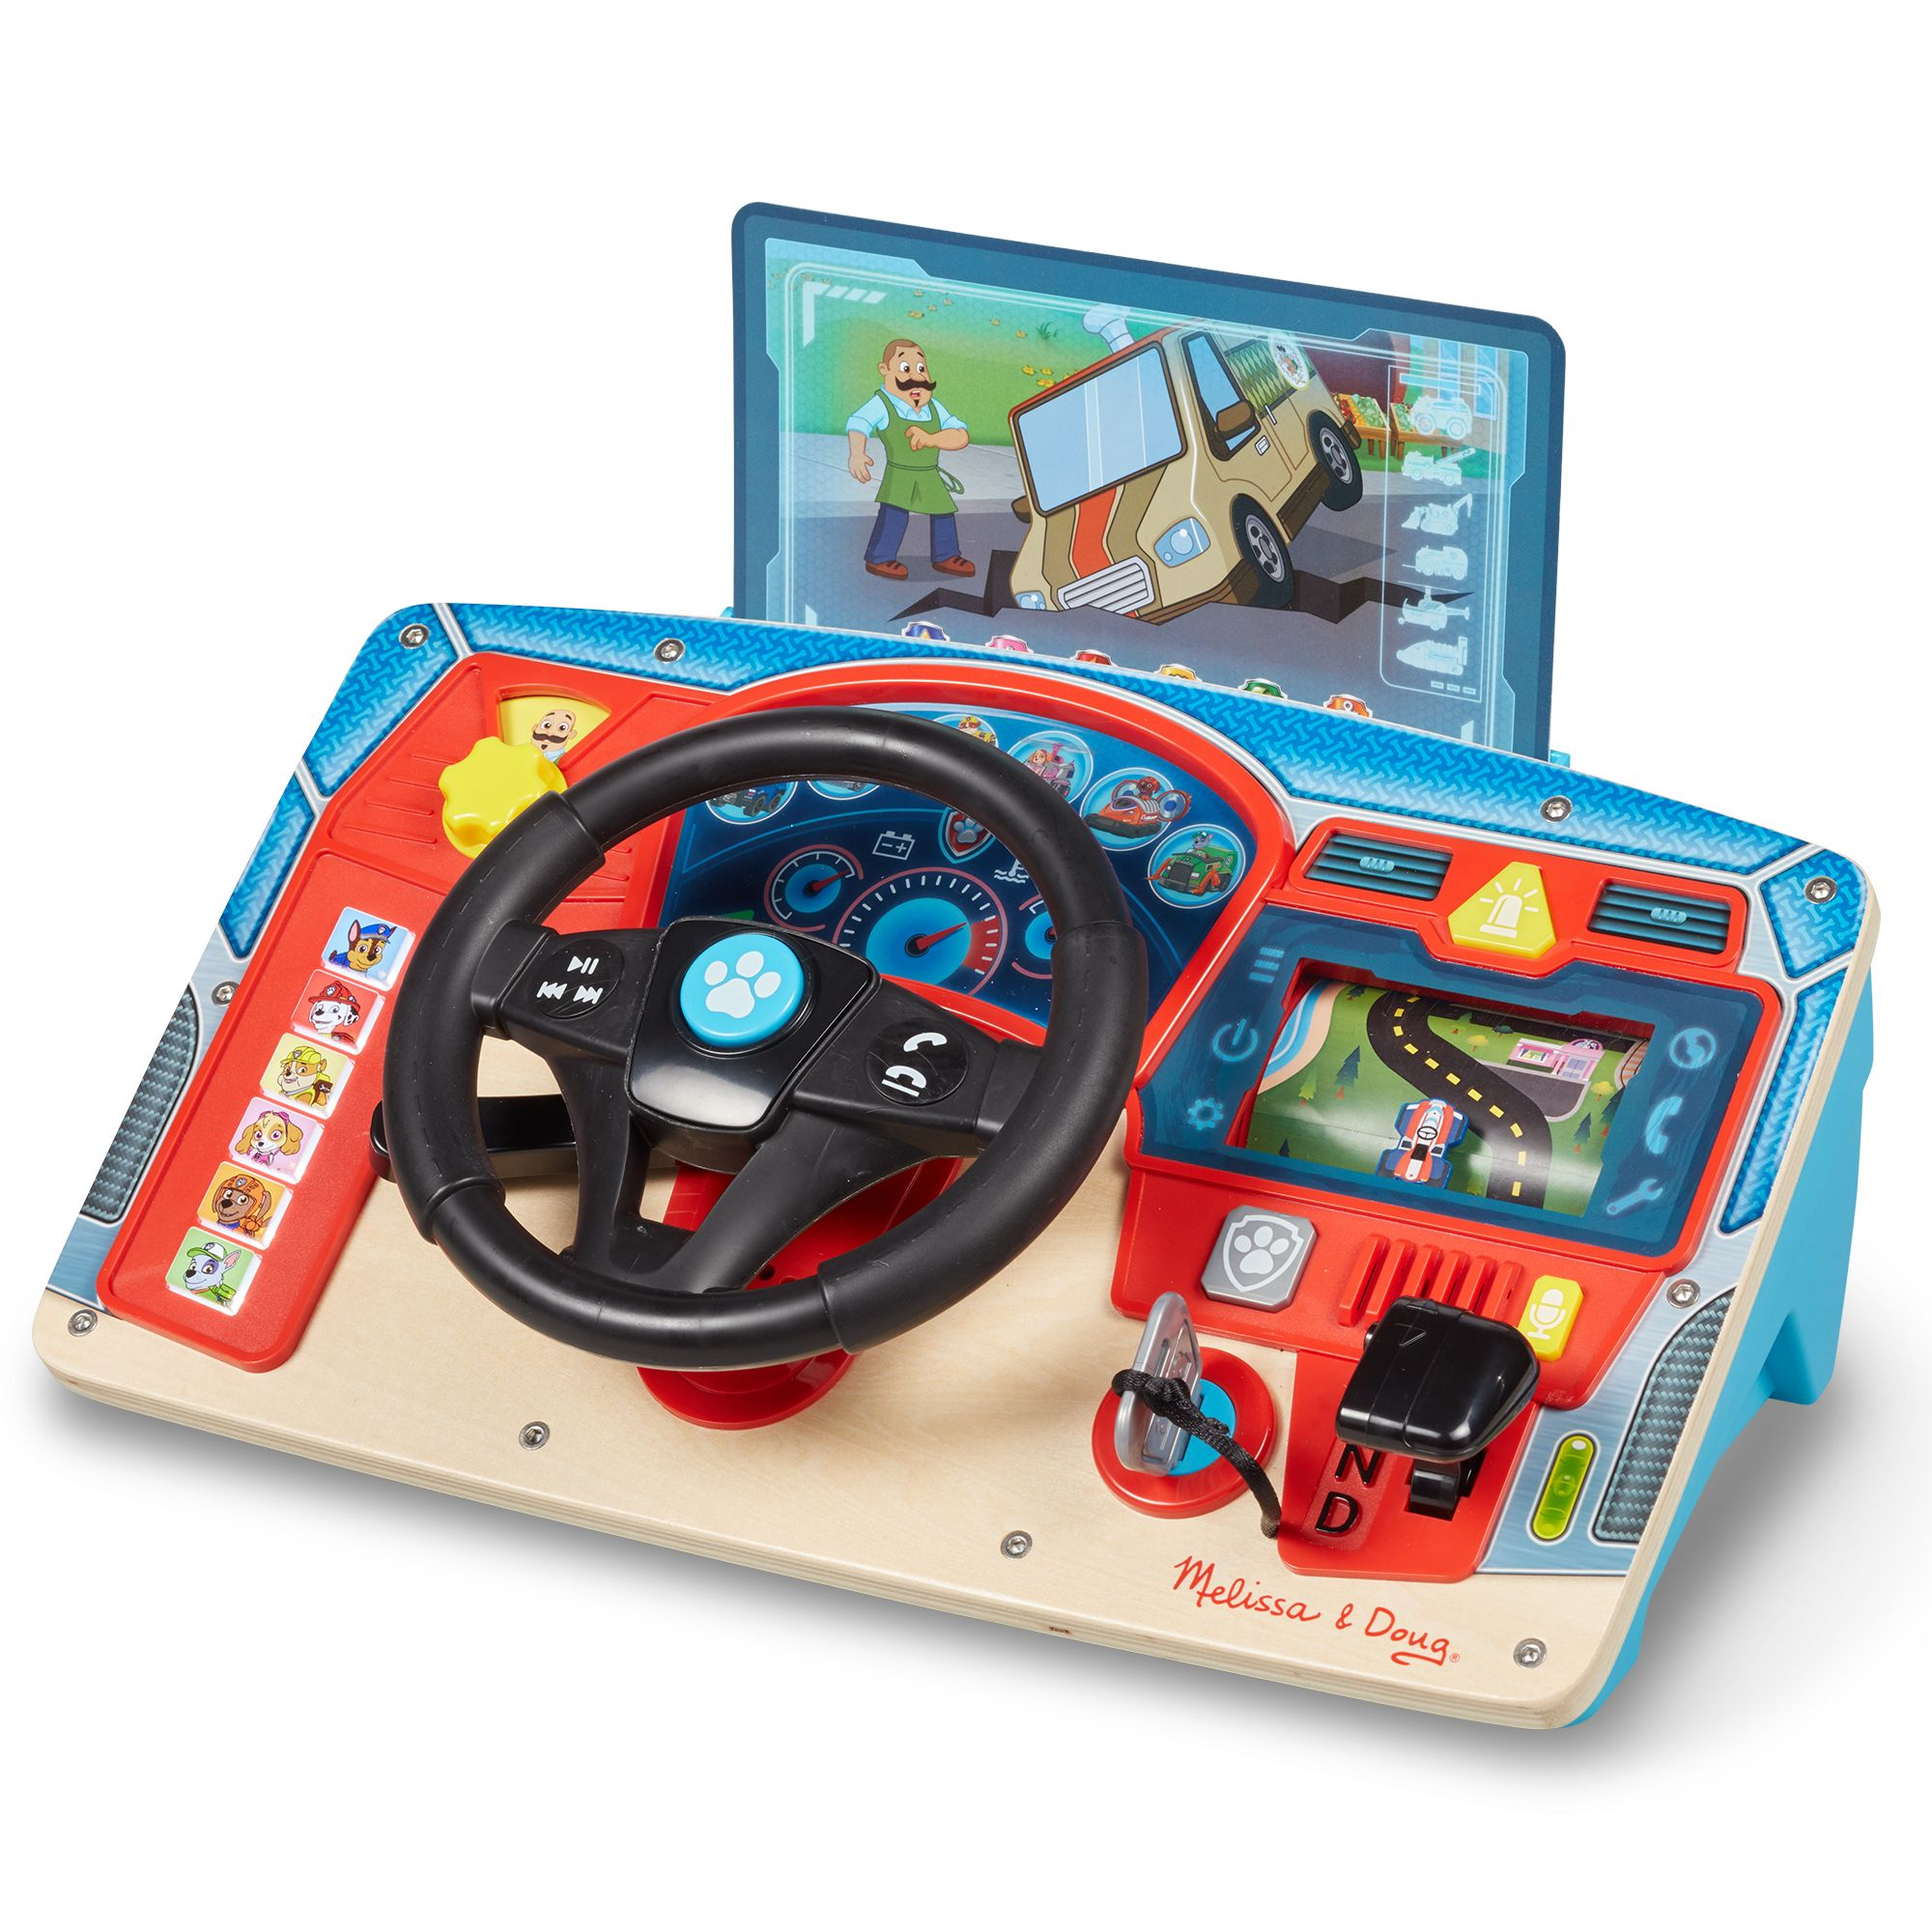toy: (2, 269, 1852, 1677)
